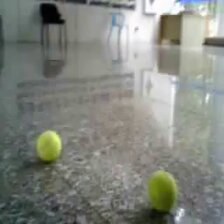tennis: (147, 169, 174, 211), (36, 131, 61, 160)
